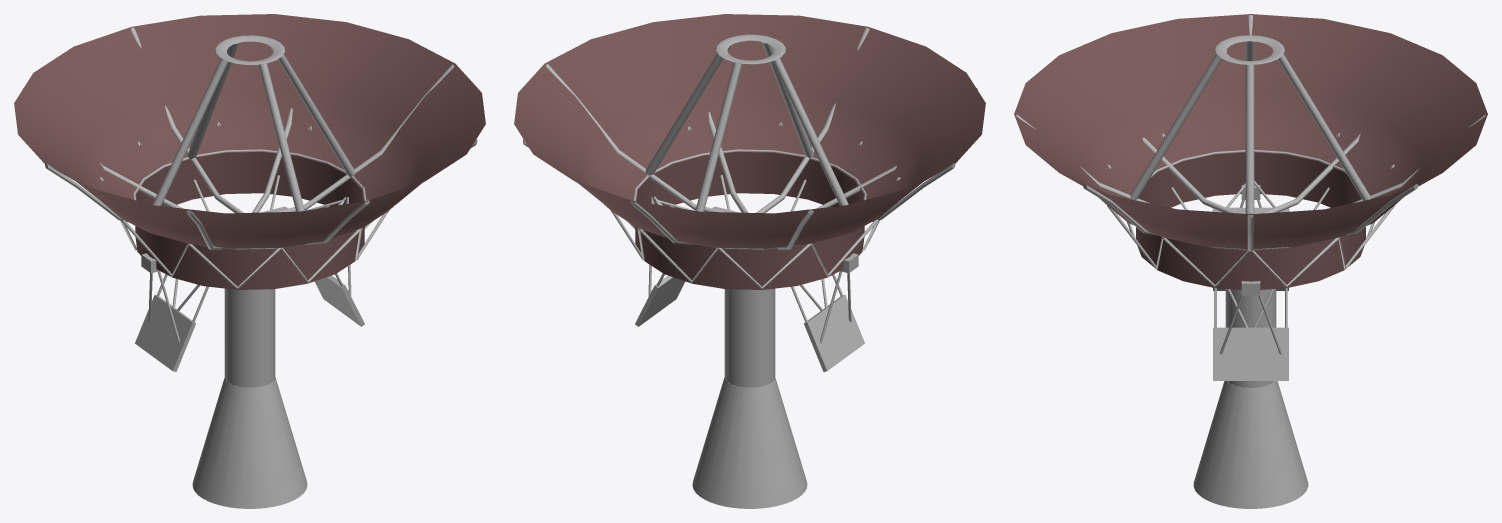
The model's file is Satellite.fbx.
The picture shows the model from 3 angles, left to right: view 1: azimuth 30°, elevation 25°; view 2: azimuth 150°, elevation 25°; view 3: azimuth 270°, elevation 25°; orthographic projection.
Visible parts, largest first — view 1: pCylinder21; view 2: pCylinder21; view 3: pCylinder21.
Boxes of the visible parts, x1,y1,x2,y2 form: pCylinder21: (14, 14, 485, 508); pCylinder21: (514, 14, 985, 508); pCylinder21: (1014, 14, 1487, 508).
Bounding box in the file's own units: 144 × 146 × 144.
